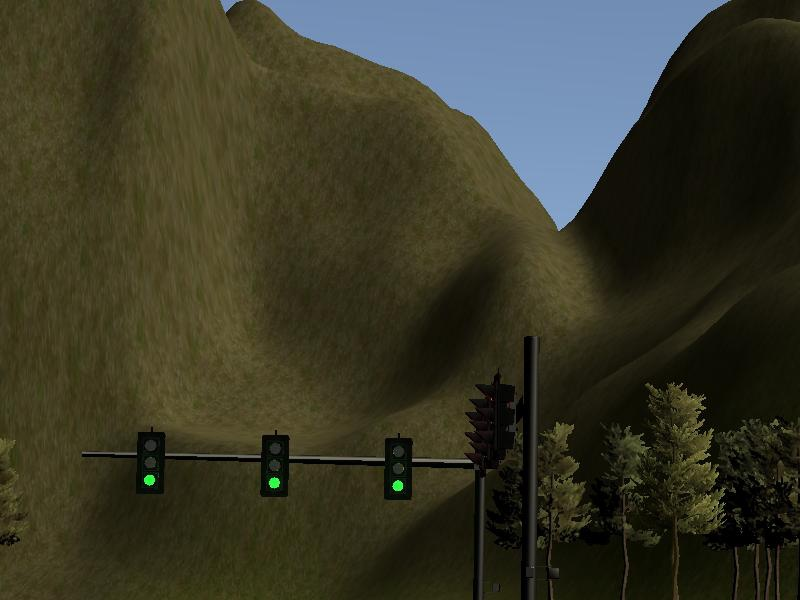green_light: (385, 439, 413, 502), (262, 435, 289, 496), (137, 432, 162, 492)
